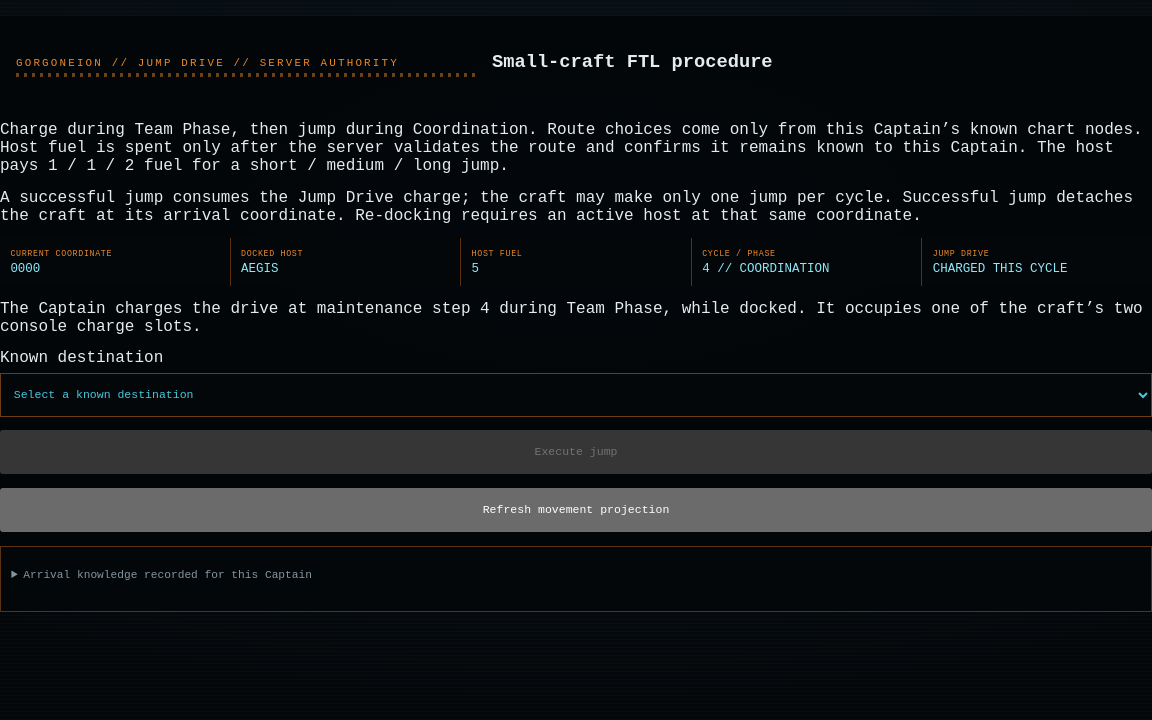
Scenario: Small Ship Jump Drive workspace › keeps the same request identity when the first jump response is uncertain
The width and height of the screenshot is (1152, 720).
Select "5143 // short // 1 host fuel" in the dropdown labelled "Known destination". click: (576, 395)
box: [0,373,1151,417]
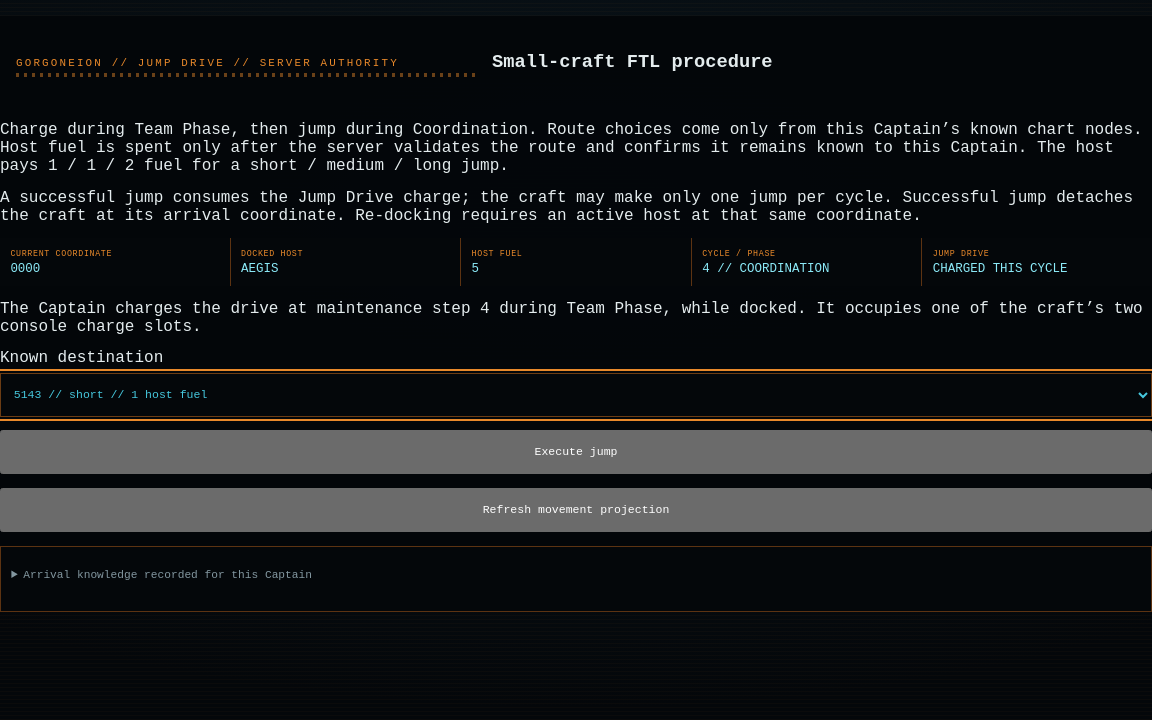
Click the button "Execute jump". click: (576, 452)
box: [0,430,1151,474]
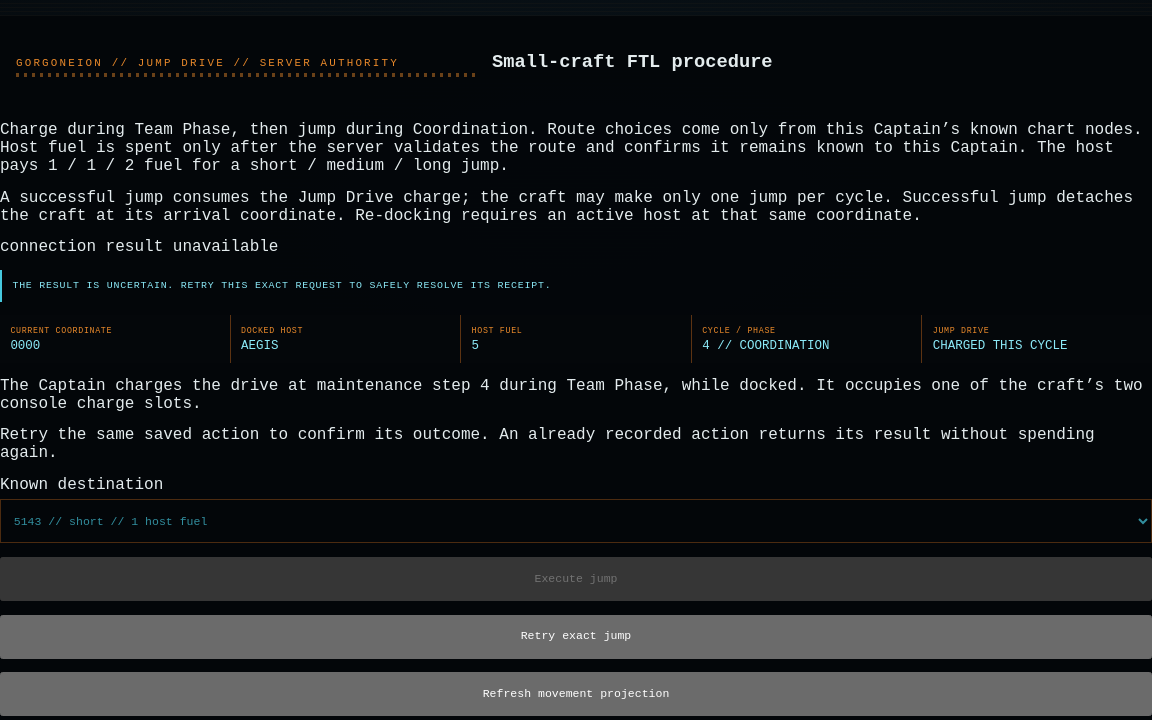
Click the button "Retry exact jump". click: (576, 636)
box: [0,614,1151,658]
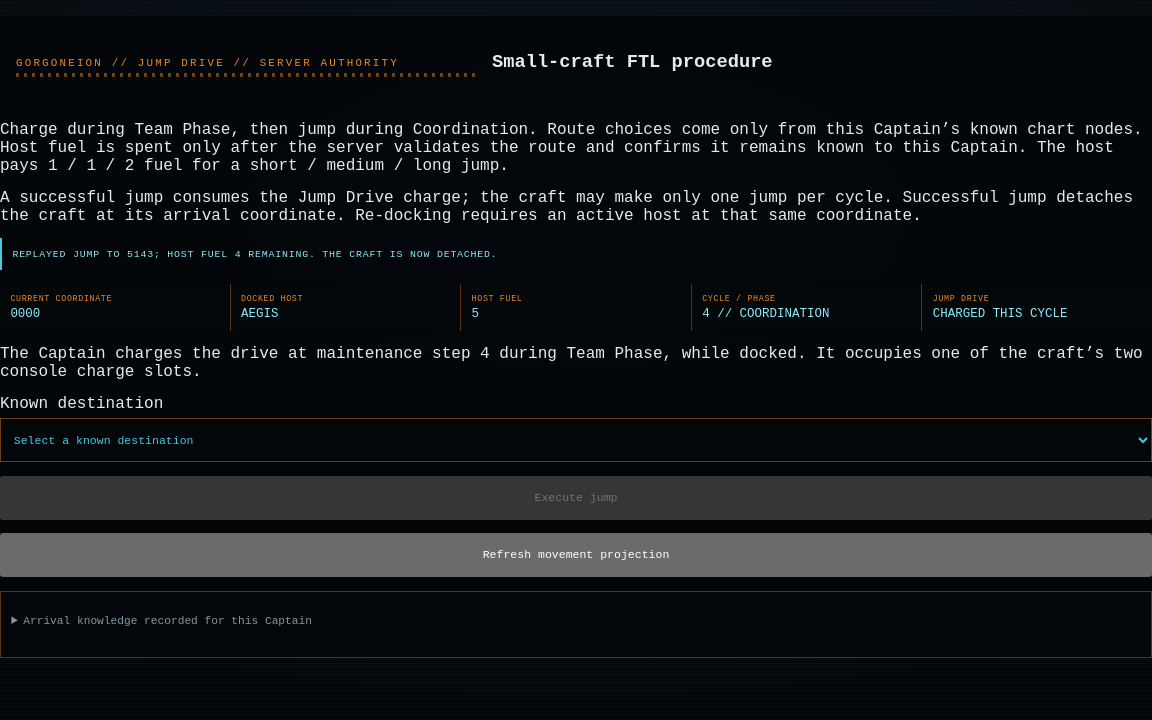
expect the text "Replayed jump to 5143; host fuel 4 remaining. The craft is now detached." is shown: met, box [0,238,1151,270]
